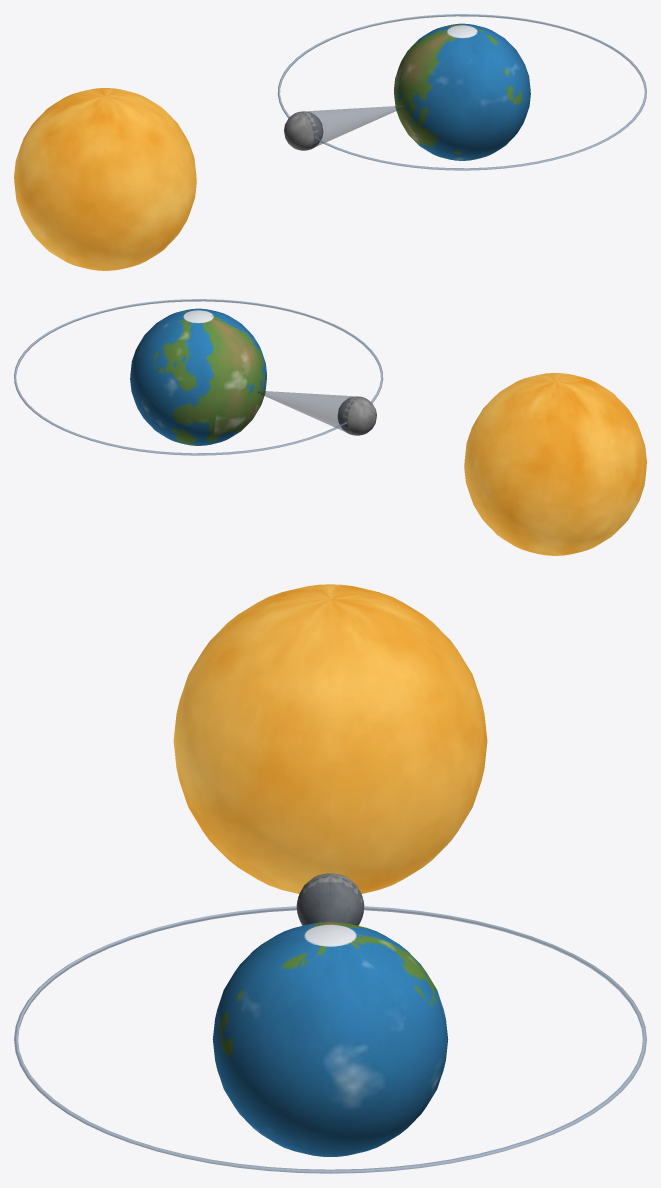
The model's file is gerhana-matahari.glb.
The picture shows the model from 3 angles, top to bottom: view 1: azimuth 30°, elevation 25°; view 2: azimuth 150°, elevation 25°; view 3: azimuth 270°, elevation 25°; orthographic projection. The views are drawn at different scales.
Visible parts, largest first — view 1: Matahari, Bumi, OrbitBulan, BayanganBulan, Bulan; view 2: Matahari, Bumi, OrbitBulan, BayanganBulan, Bulan; view 3: Matahari, Bumi, OrbitBulan, Bulan, BayanganBulan.
Boxes of the visible parts, x1=… form: Matahari: x1=14, y1=88, x2=196, y2=270; Bumi: x1=394, y1=23, x2=530, y2=160; OrbitBulan: x1=277, y1=14, x2=646, y2=170; BayanganBulan: x1=299, y1=105, x2=403, y2=148; Bulan: x1=284, y1=111, x2=323, y2=150; Matahari: x1=464, y1=373, x2=646, y2=555; Bumi: x1=130, y1=308, x2=266, y2=445; OrbitBulan: x1=14, y1=299, x2=383, y2=455; BayanganBulan: x1=257, y1=390, x2=358, y2=433; Bulan: x1=337, y1=396, x2=376, y2=435; Matahari: x1=173, y1=584, x2=487, y2=893; Bumi: x1=212, y1=922, x2=448, y2=1156; OrbitBulan: x1=14, y1=906, x2=646, y2=1173; Bulan: x1=296, y1=873, x2=364, y2=925; BayanganBulan: x1=296, y1=876, x2=364, y2=925.
Size of the model in its own units: 0.5412 by 0.144 by 0.2904.
5 materials, 3 textured.
